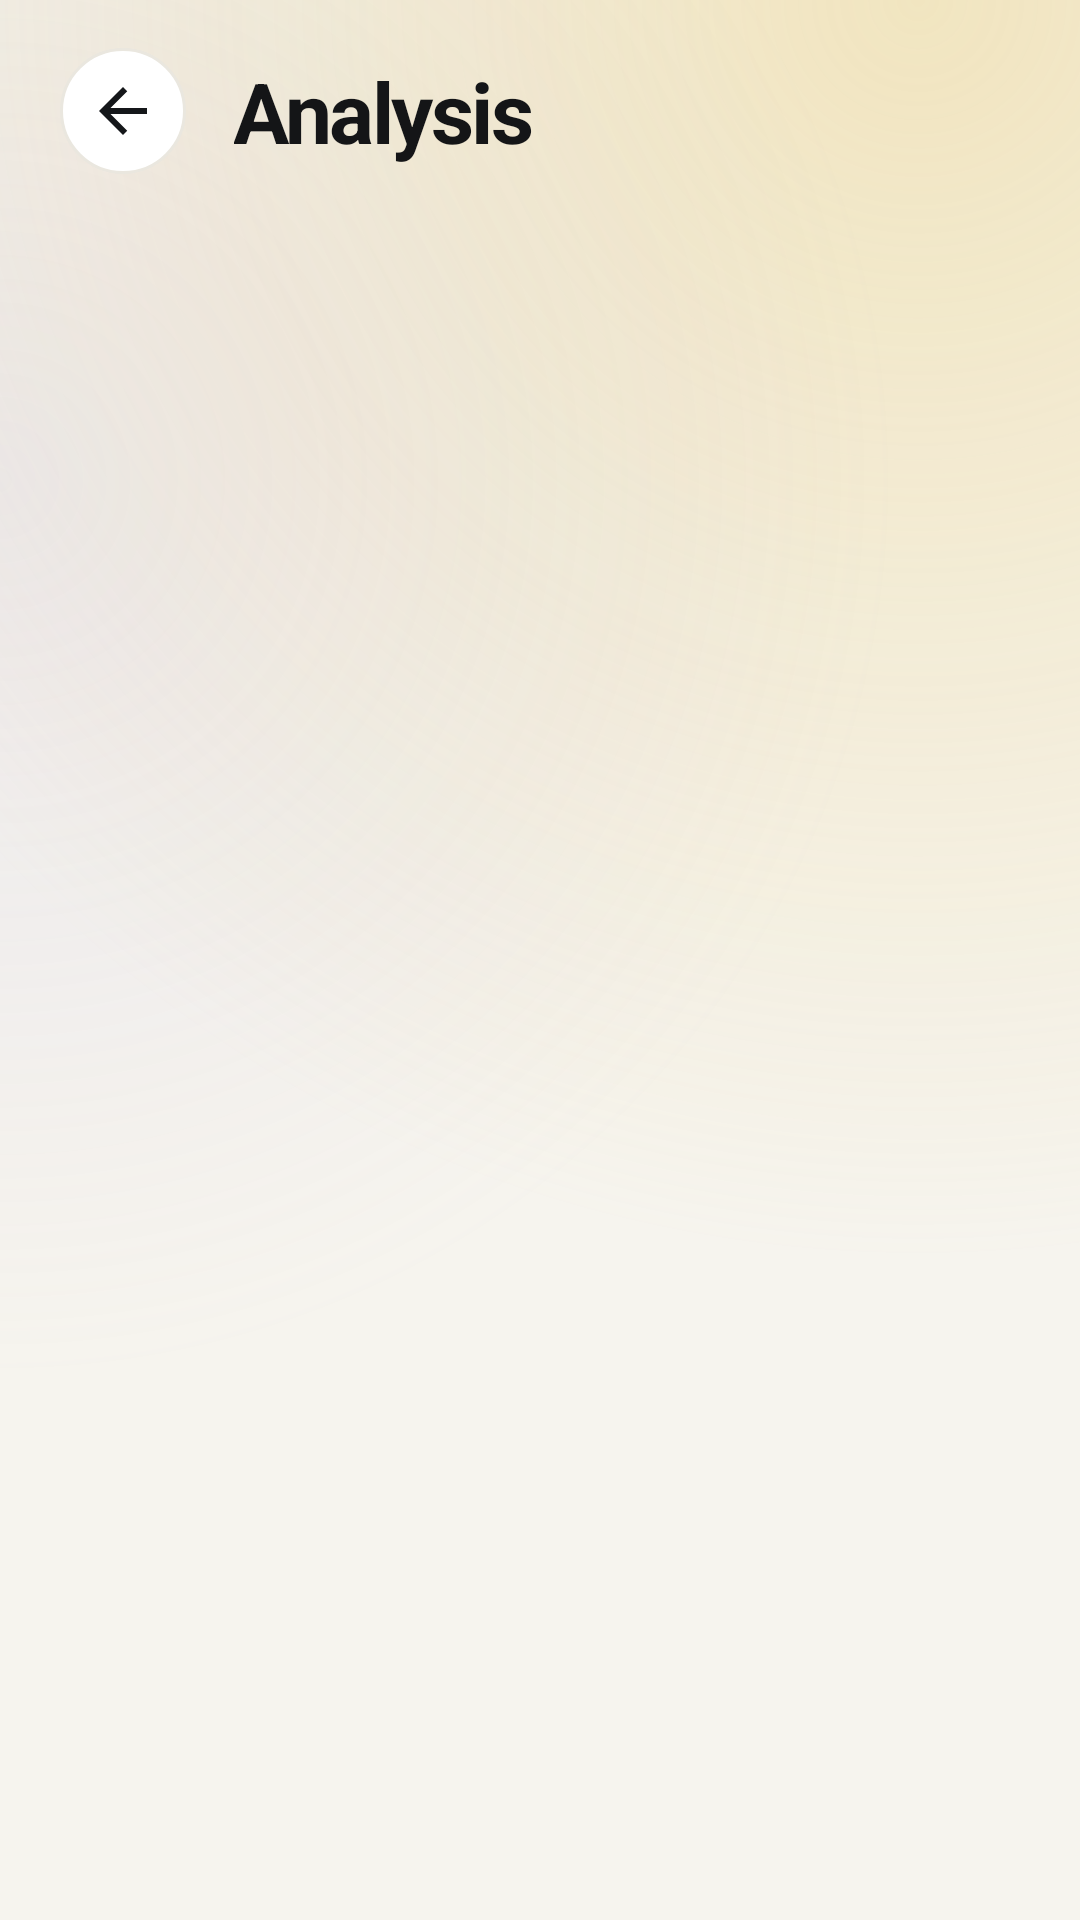

Point at icon controls on the screen. Image size 1080px x 1920px, points as [x,y].
Back: [123,111]
